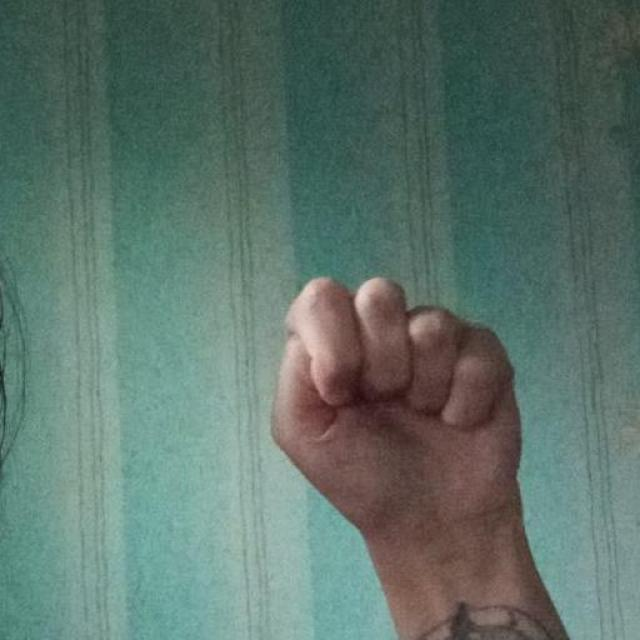hand: (268, 274, 572, 638)
